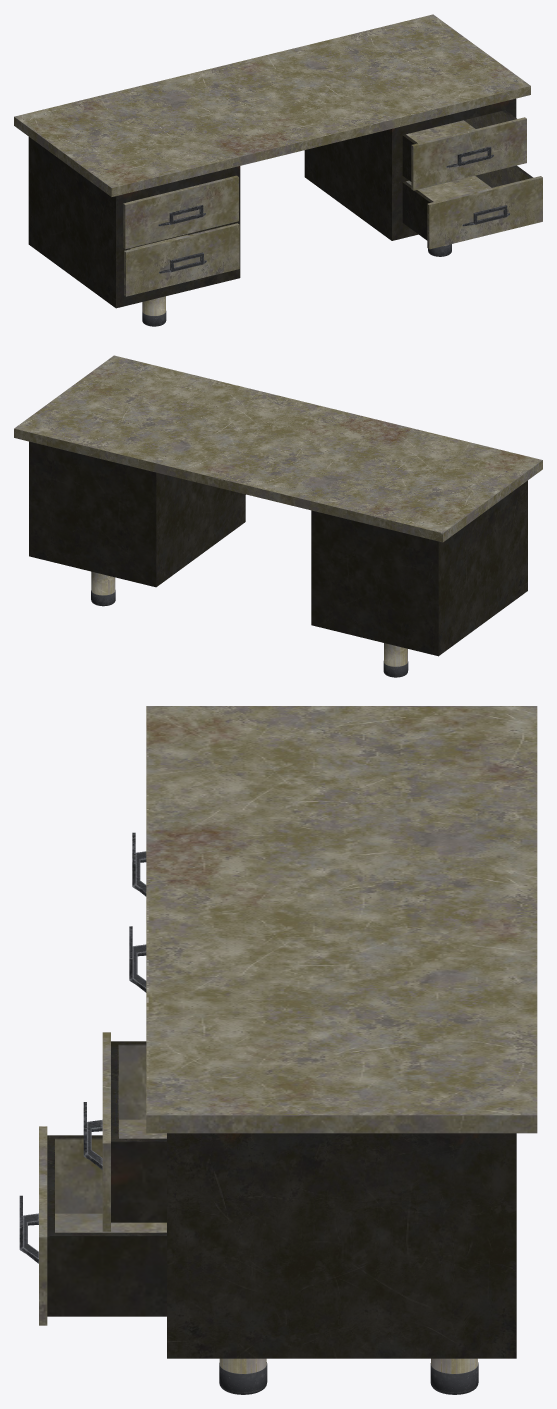
File: Furniture3.obj
The picture shows the model from 3 angles, top to bottom: view 1: azimuth 30°, elevation 25°; view 2: azimuth 150°, elevation 25°; view 3: azimuth 270°, elevation 25°; orthographic projection. The views are drawn at different scales.
Visible parts, largest first — view 1: Cube.014, Cube.017_Cube.016, Cube.016_Cube.015, Cylinder; view 2: Cube.014, Cube.016_Cube.015, Cylinder; view 3: Cube.014, Cube.016_Cube.015, Cube.017_Cube.016, Cylinder.
Part boxes in pixels (x1,y1,x2,y2): Cube.014: (14,14,530,196); Cube.017_Cube.016: (123,110,542,296); Cube.016_Cube.015: (28,98,516,308); Cylinder: (142,244,451,326); Cube.014: (14,355,542,542); Cube.016_Cube.015: (29,441,527,656); Cylinder: (91,571,408,677); Cube.014: (146,706,537,1133); Cube.016_Cube.015: (167,1133,516,1358); Cube.017_Cube.016: (19,832,166,1325); Cylinder: (219,1358,478,1394).
Bounding box in the file's own units: 1.4 × 0.5372 × 0.7503.
1 material, 1 textured.
